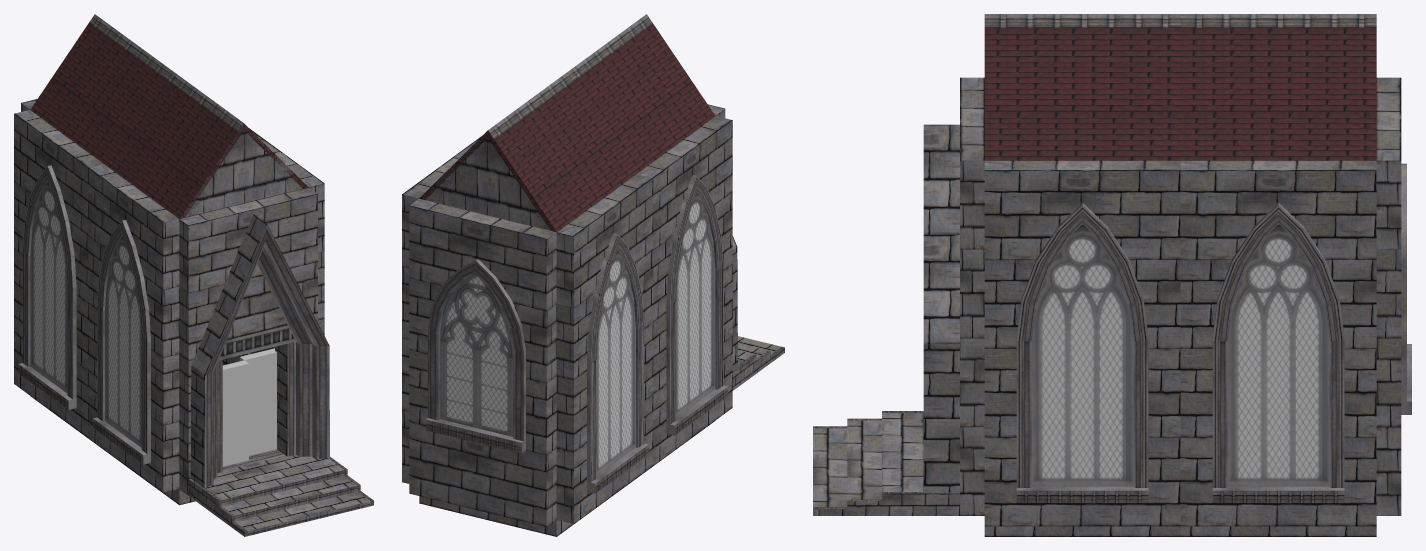
File: Chapel.fbx
3 renders of one model, left to right at view 1: azimuth 30°, elevation 25°; view 2: azimuth 150°, elevation 25°; view 3: azimuth 270°, elevation 25°, orthographic. The views are drawn at different scales.
Visible parts, largest first — view 1: Chapel; view 2: Chapel; view 3: Chapel.
Part boxes in pixels (bbox=[...]): Chapel: bbox=[14, 14, 373, 536]; Chapel: bbox=[402, 14, 784, 536]; Chapel: bbox=[813, 14, 1411, 536].
Bounding box in the file's own units: 1097 × 2169 × 2444.
